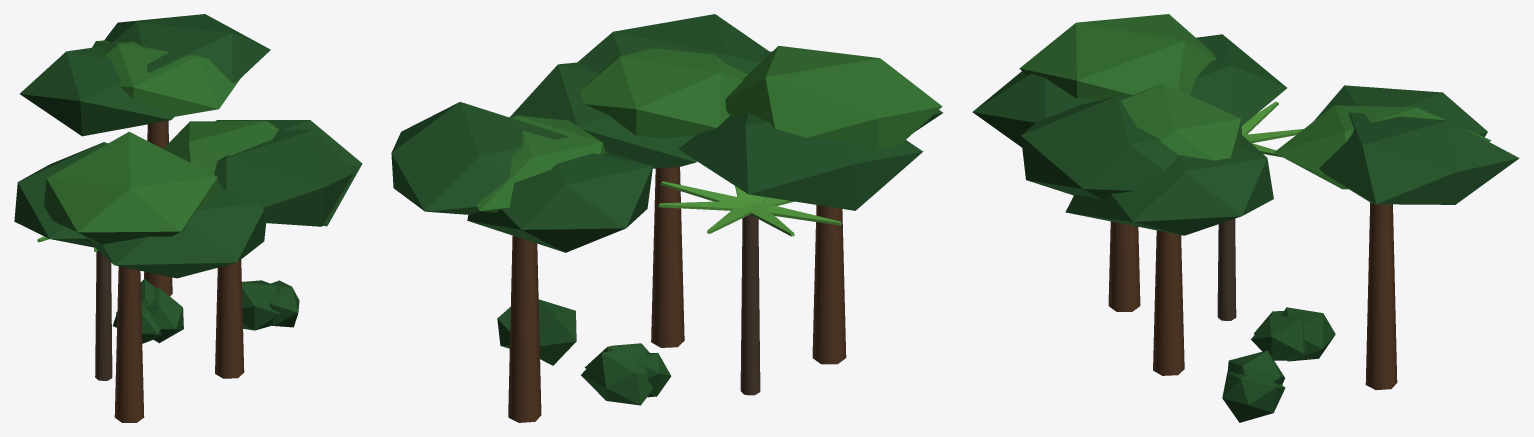
File: sawyer_jungle_thicket_a.glb
3 views of the same model, side by side, from view 1: azimuth 30°, elevation 25°; view 2: azimuth 150°, elevation 25°; view 3: azimuth 270°, elevation 25° (orthographic). The views are drawn at different scales.
Visible parts, largest first — view 1: broadleaf_2_crown0, broadleaf_0_crown2, broadleaf_2_crown2, broadleaf_1_crown1, broadleaf_1_crown0, broadleaf_1_crown2, broadleaf_2_trunk, broadleaf_0_crown0, broadleaf_0_trunk, broadleaf_2_crown1, treefern_5_trunk, jbush_3_leaves1 (+6 smaller); view 2: broadleaf_2_crown0, broadleaf_2_crown1, broadleaf_1_crown2, broadleaf_1_crown1, broadleaf_0_crown0, broadleaf_0_crown1, broadleaf_0_crown2, broadleaf_1_trunk, broadleaf_0_trunk, broadleaf_2_trunk, broadleaf_1_crown0, treefern_5_trunk (+7 smaller); view 3: broadleaf_1_crown2, broadleaf_2_crown0, broadleaf_0_crown2, broadleaf_0_crown1, broadleaf_0_crown0, broadleaf_1_trunk, broadleaf_2_crown1, broadleaf_0_trunk, broadleaf_2_crown2, broadleaf_1_crown0, broadleaf_1_crown1, broadleaf_2_trunk (+5 smaller).
Part boxes in pixels (x1,y1,x2,y2): broadleaf_2_crown0: [43, 131, 217, 244]; broadleaf_0_crown2: [214, 129, 353, 226]; broadleaf_2_crown2: [93, 183, 266, 278]; broadleaf_1_crown1: [20, 46, 173, 136]; broadleaf_1_crown0: [92, 40, 240, 116]; broadleaf_1_crown2: [104, 14, 270, 83]; broadleaf_2_trunk: [114, 266, 144, 422]; broadleaf_0_crown0: [163, 121, 279, 174]; broadleaf_0_trunk: [215, 259, 244, 378]; broadleaf_2_crown1: [14, 142, 107, 247]; treefern_5_trunk: [95, 250, 112, 380]; jbush_3_leaves1: [242, 280, 280, 330]; broadleaf_2_crown0: [725, 45, 942, 150]; broadleaf_2_crown1: [678, 113, 923, 210]; broadleaf_1_crown2: [391, 102, 568, 214]; broadleaf_1_crown1: [467, 151, 652, 252]; broadleaf_0_crown0: [580, 48, 747, 138]; broadleaf_0_crown1: [510, 62, 696, 168]; broadleaf_0_crown2: [578, 14, 768, 74]; broadleaf_1_trunk: [508, 236, 541, 422]; broadleaf_0_trunk: [651, 166, 684, 347]; broadleaf_2_trunk: [812, 205, 846, 364]; broadleaf_1_crown0: [475, 115, 606, 212]; treefern_5_trunk: [740, 214, 760, 395]; broadleaf_1_crown2: [1319, 112, 1519, 204]; broadleaf_2_crown0: [1019, 14, 1216, 98]; broadleaf_0_crown2: [1021, 96, 1178, 198]; broadleaf_0_crown1: [1065, 135, 1273, 235]; broadleaf_0_crown0: [1121, 83, 1242, 160]; broadleaf_1_trunk: [1365, 202, 1397, 390]; broadleaf_2_crown1: [1190, 34, 1286, 125]; broadleaf_0_trunk: [1153, 230, 1184, 375]; broadleaf_2_crown2: [972, 71, 1106, 147]; broadleaf_1_crown0: [1274, 105, 1491, 189]; broadleaf_1_crown1: [1313, 85, 1487, 137]; broadleaf_2_trunk: [1108, 221, 1140, 311].
Size of the model in its own units: 4.52 by 3.32 by 5.84.
